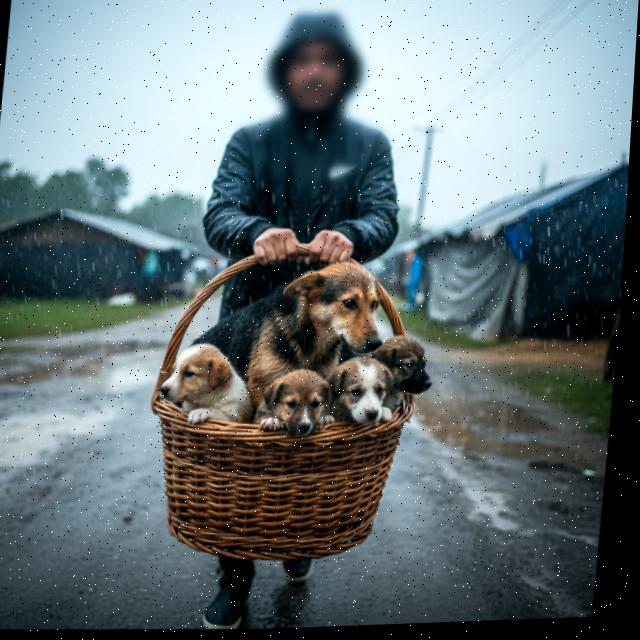civilian: (152, 0, 427, 633)
dog: (185, 250, 395, 396), (148, 334, 262, 436), (248, 362, 341, 443), (315, 348, 396, 436), (369, 332, 436, 414)
